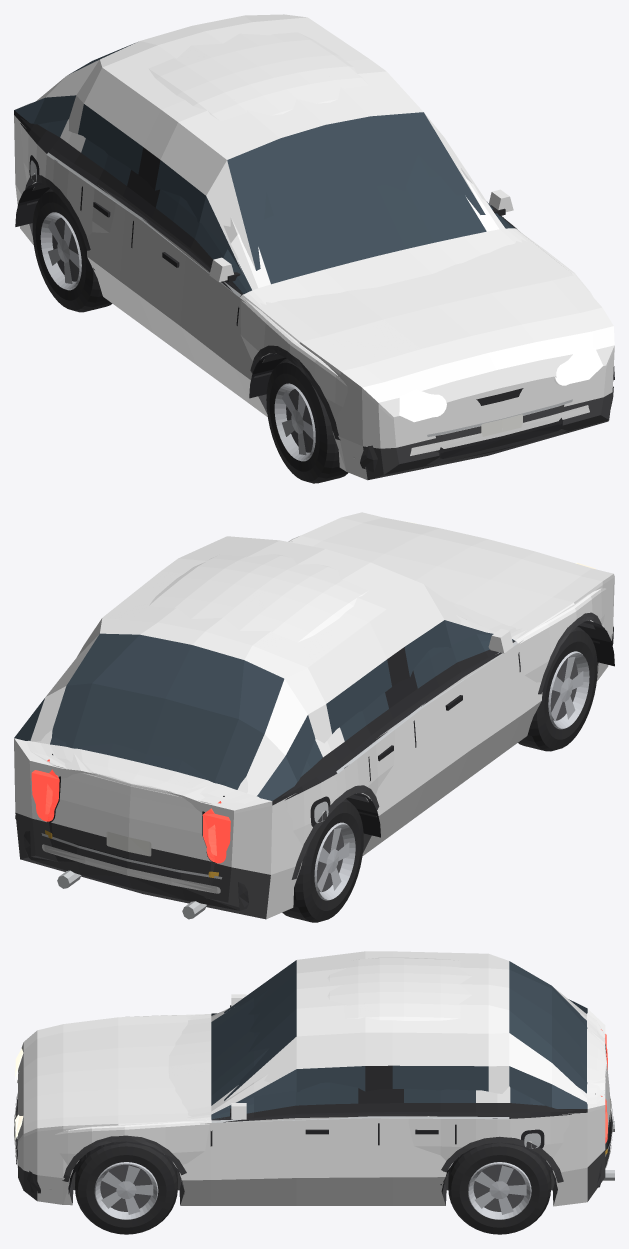
File: caipora.glb
3 views of the same model, one above another, from view 1: azimuth 30°, elevation 25°; view 2: azimuth 150°, elevation 25°; view 3: azimuth 270°, elevation 25° (orthographic). The views are drawn at different scales.
Parts seen in each view (by area): view 1: body.001, body, glass.001, glass, details, wheel_fr, wheel_rr, lamp_head.001, wheel_wells.001; view 2: body.001, body, glass.001, details, wheel_rr, wheel_fr, glass, lamp_tail.001, wheel_wells.001, lamp_tail; view 3: body.001, body, glass.001, wheel_rl, wheel_fl, glass, details, wheel_wells, wheel_wells.001.
Boxes of the visible parts, left/top/right/bottom form: body.001: left=14, top=14, right=614, bottom=480; body: left=19, top=32, right=592, bottom=458; glass.001: left=14, top=43, right=514, bottom=294; glass: left=38, top=119, right=513, bottom=293; details: left=25, top=152, right=613, bottom=472; wheel_fr: left=266, top=358, right=348, bottom=483; wheel_rr: left=32, top=188, right=112, bottom=312; lamp_head.001: left=399, top=348, right=603, bottom=422; wheel_wells.001: left=15, top=182, right=286, bottom=398; body.001: left=14, top=512, right=614, bottom=919; body: left=26, top=536, right=606, bottom=882; glass.001: left=14, top=620, right=514, bottom=800; details: left=23, top=612, right=613, bottom=919; wheel_rr: left=282, top=799, right=363, bottom=922; wheel_fr: left=518, top=626, right=597, bottom=751; glass: left=29, top=632, right=513, bottom=796; lamp_tail.001: left=31, top=759, right=230, bottom=863; wheel_wells.001: left=346, top=621, right=614, bottom=837; lamp_tail: left=45, top=754, right=224, bottom=877; body.001: left=18, top=951, right=605, bottom=1206; body: left=49, top=957, right=610, bottom=1192; glass.001: left=212, top=960, right=587, bottom=1119; wheel_rl: left=448, top=1142, right=551, bottom=1234; wheel_fl: left=75, top=1142, right=177, bottom=1234; glass: left=211, top=989, right=586, bottom=1119; details: left=14, top=994, right=614, bottom=1193; wheel_wells: left=68, top=1141, right=557, bottom=1194; wheel_wells.001: left=69, top=1142, right=557, bottom=1193.
Bounding box in the file's own units: 1.99 × 1.63 × 4.38.
